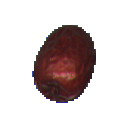gd: (20, 9, 114, 122)
